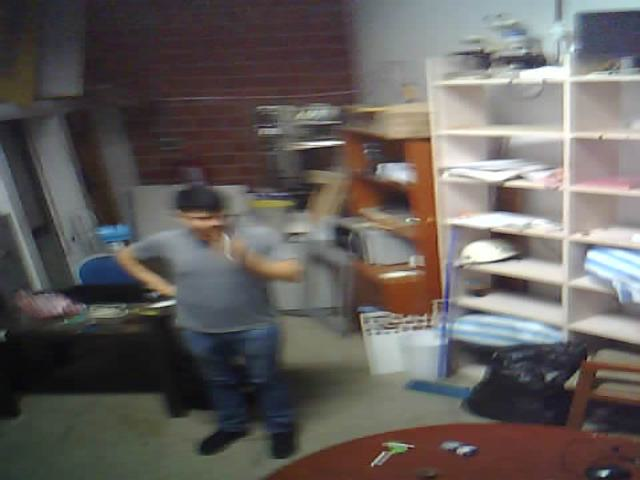person: (91, 157, 339, 468)
